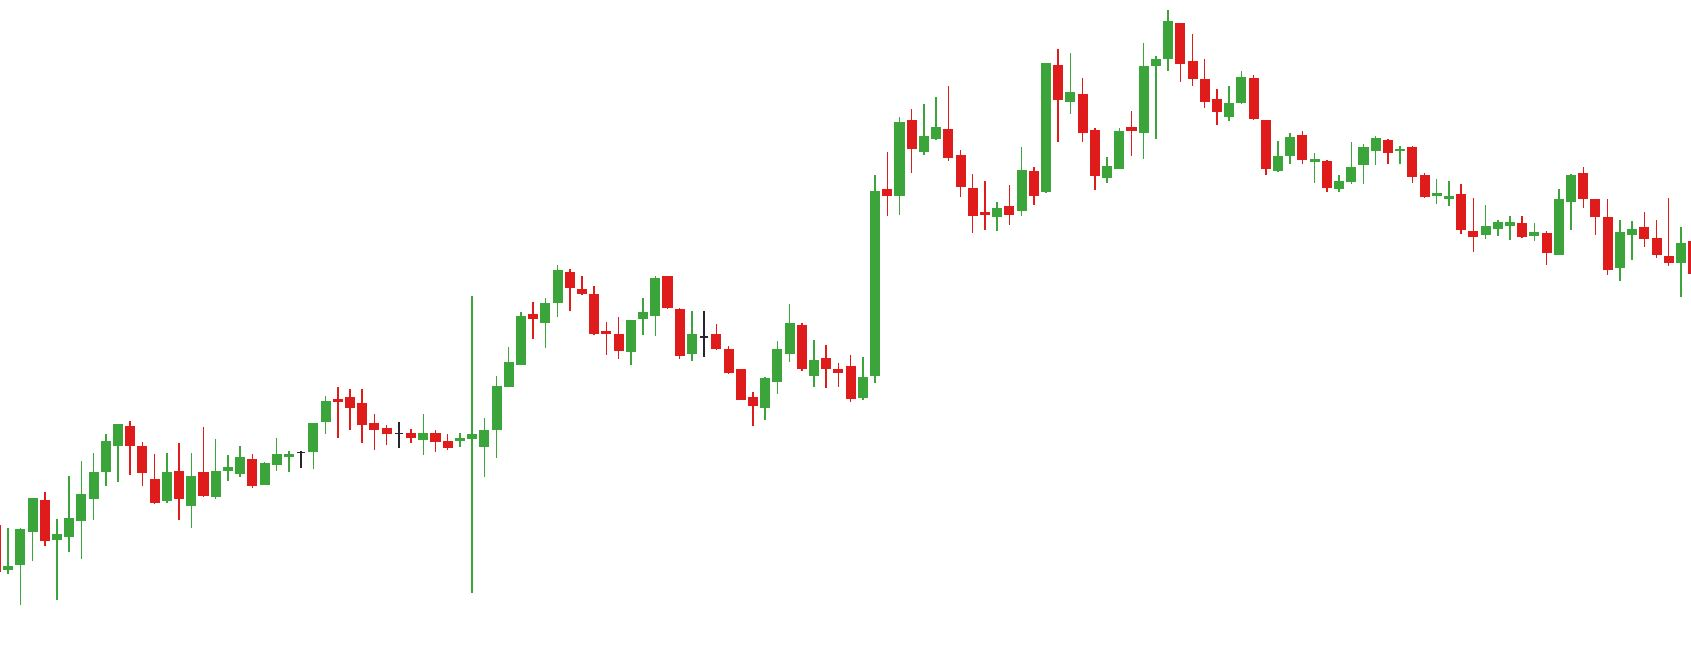buy: (880, 148, 1002, 238)
sell: (1051, 9, 1187, 122)
